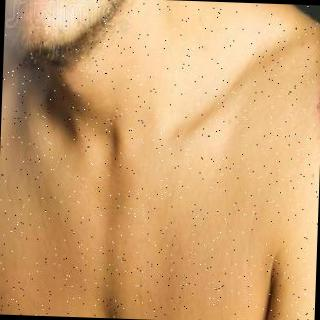smoke: (2, 0, 27, 81)
